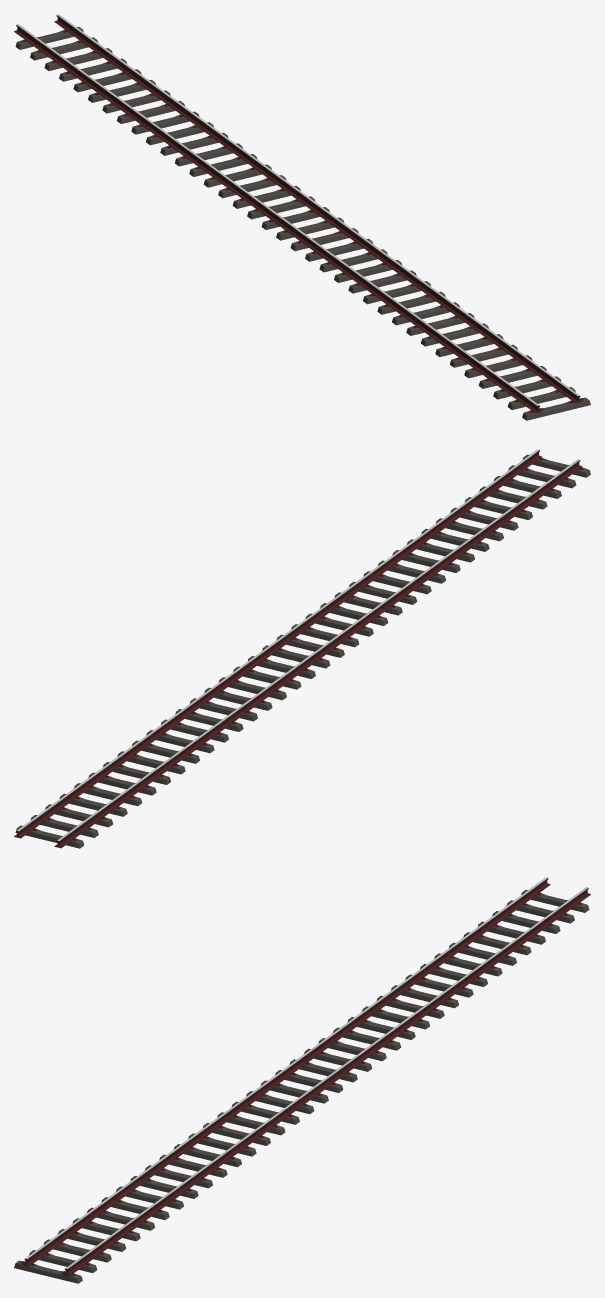
Rendered from train_track.glb.
The picture shows the model from 3 angles, top to bottom: view 1: azimuth 30°, elevation 25°; view 2: azimuth 150°, elevation 25°; view 3: azimuth 330°, elevation 25°; orthographic projection.
Visible parts, largest first — view 1: Track_1; view 2: Track_1; view 3: Track_1.
Part boxes in pixels (bbox=[...]): Track_1: bbox=[14, 14, 590, 420]; Track_1: bbox=[14, 449, 590, 848]; Track_1: bbox=[14, 877, 590, 1283].
Size of the model in its own units: 2.48 by 0.448 by 34.59.
